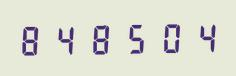eight: (17, 21, 49, 57), (84, 20, 116, 56)
five: (117, 20, 149, 55)
four: (183, 18, 215, 54), (50, 21, 82, 56)
zero: (150, 19, 182, 54)
